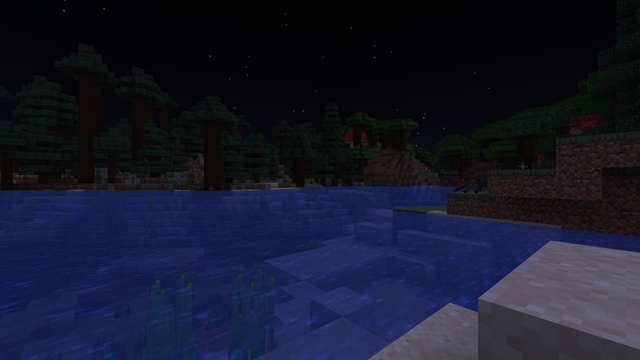araignees: (456, 173, 486, 193)
